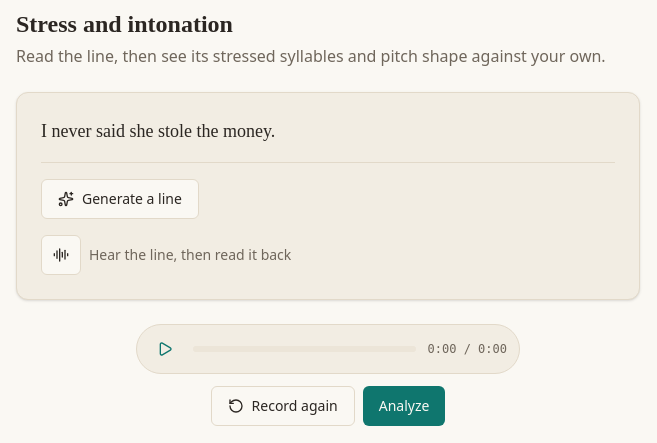
Test: StressIntonation › should replace the line with a generated one
What coordinates should you click on to do the following:
click the button "Generate a line"
I would click on:
 (120, 199)
Its box is [41,179,199,219].
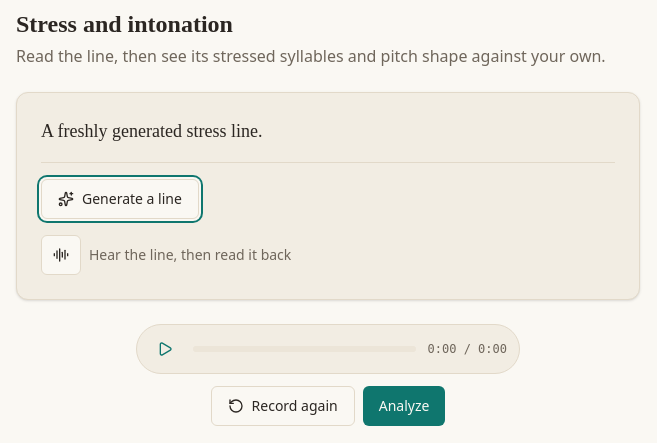
Now the text "A freshly generated stress line." is shown, box [41,121,262,141]
